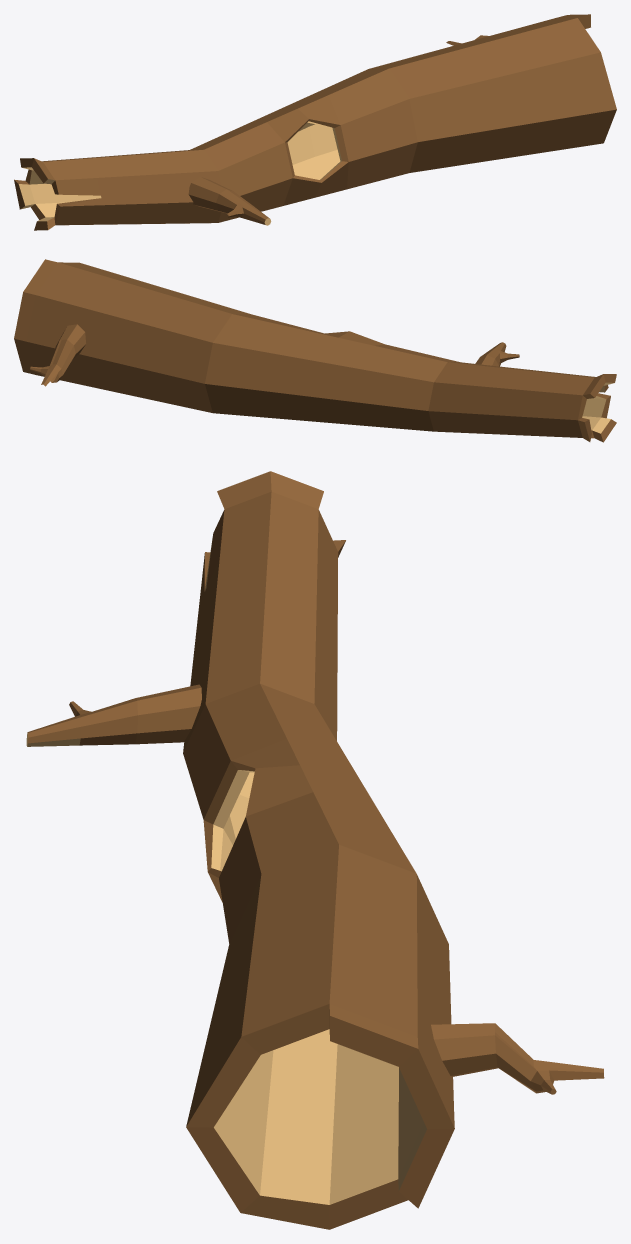
Rendered from LOG_V1.fbx.
3 renders of one model, top to bottom at view 1: azimuth 30°, elevation 25°; view 2: azimuth 150°, elevation 25°; view 3: azimuth 270°, elevation 25°, orthographic. The views are drawn at different scales.
Parts seen in each view (by area): view 1: log; view 2: log; view 3: log.
Boxes of the visible parts, left/top/right/bottom form: log: left=14, top=14, right=616, bottom=230; log: left=14, top=259, right=616, bottom=442; log: left=26, top=471, right=604, bottom=1229.
Size of the model in its own units: 517 by 109 by 237.
